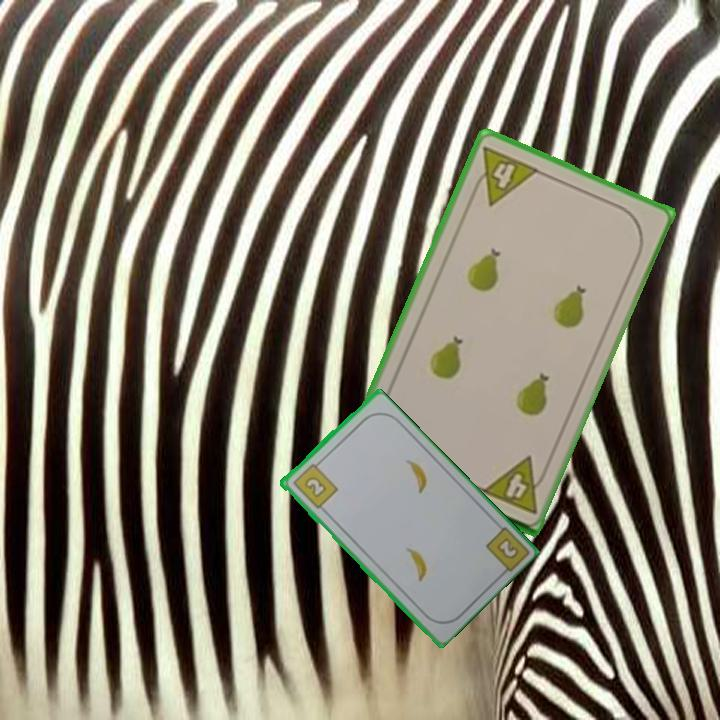2b: (289, 457, 340, 511), (495, 536, 519, 560)
4p: (466, 142, 542, 209), (477, 453, 552, 516)
